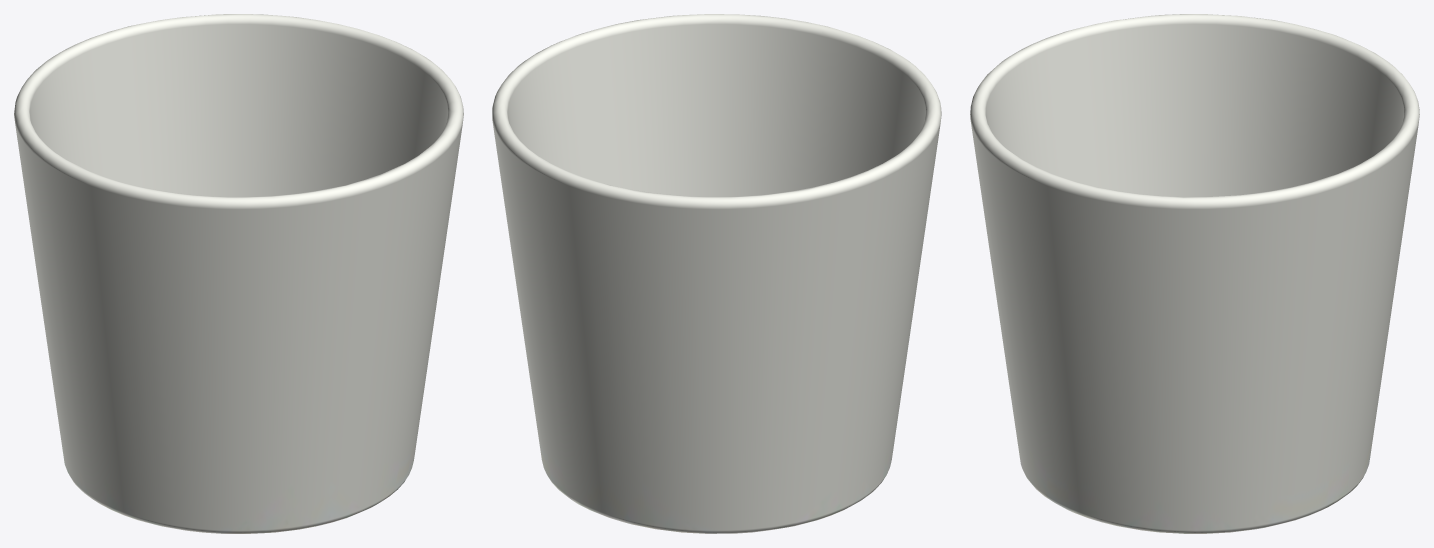
File: sojabona_osonka_doniczki_00533574.glb
The picture shows the model from 3 angles, left to right: view 1: azimuth 30°, elevation 25°; view 2: azimuth 150°, elevation 25°; view 3: azimuth 270°, elevation 25°; orthographic projection.
Visible parts, largest first — view 1: sojabona_osonka_doniczki_00533574; view 2: sojabona_osonka_doniczki_00533574; view 3: sojabona_osonka_doniczki_00533574.
Part boxes in pixels (x1,y1,x2,y2): sojabona_osonka_doniczki_00533574: (14, 14, 463, 533); sojabona_osonka_doniczki_00533574: (492, 14, 941, 533); sojabona_osonka_doniczki_00533574: (970, 14, 1419, 533).
Size of the model in its own units: 0.1132 by 0.099 by 0.1132.
Materials: 1 (1 with a texture image).
